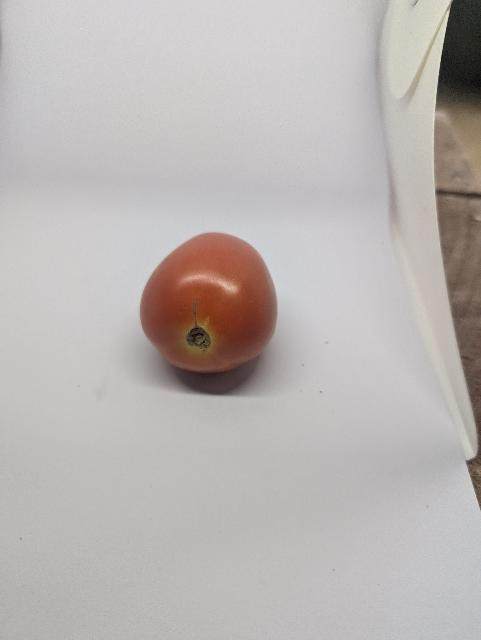red: (130, 226, 296, 389)
